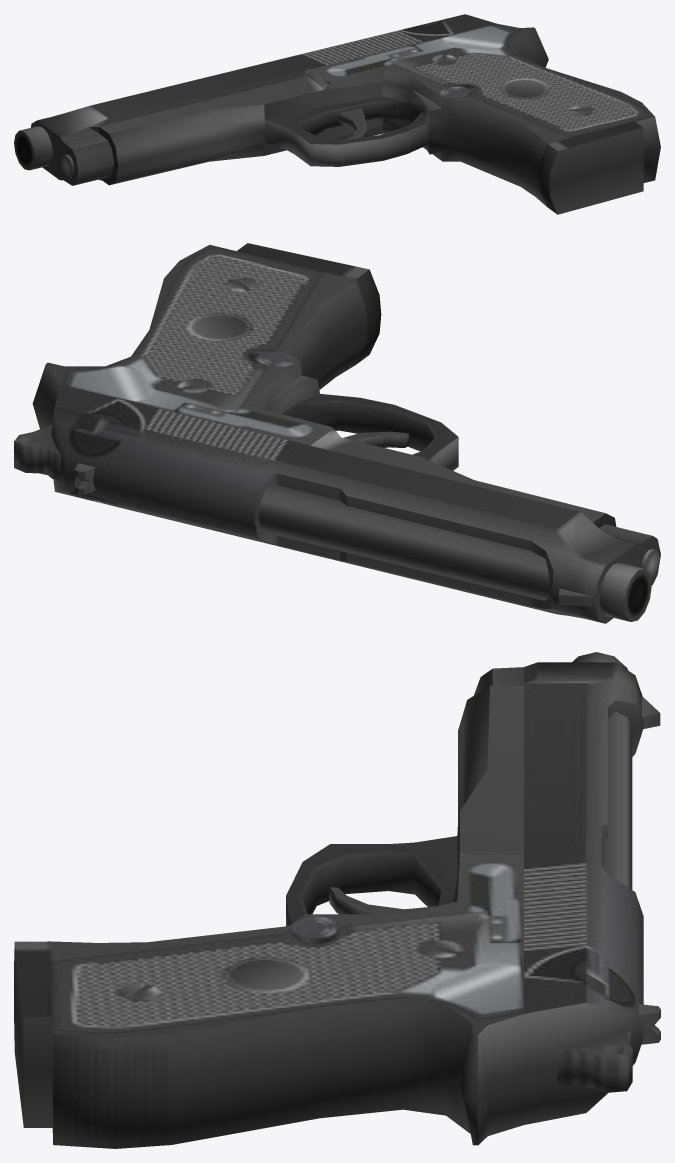
File: pistolet.obj
3 views of the same model, one above another, from view 1: azimuth 30°, elevation 25°; view 2: azimuth 150°, elevation 25°; view 3: azimuth 270°, elevation 25° (orthographic). The views are drawn at different scales.
Visible parts, largest first — view 1: Cube_Cube.001; view 2: Cube_Cube.001; view 3: Cube_Cube.001.
Part boxes in pixels (box(x1,y1,x2,y2)): Cube_Cube.001: box(14, 14, 660, 214); Cube_Cube.001: box(14, 243, 660, 623); Cube_Cube.001: box(14, 652, 660, 1148).
Bounding box in the file's own units: 21.58 × 2.7 × 14.23.
1 material, 1 textured.
